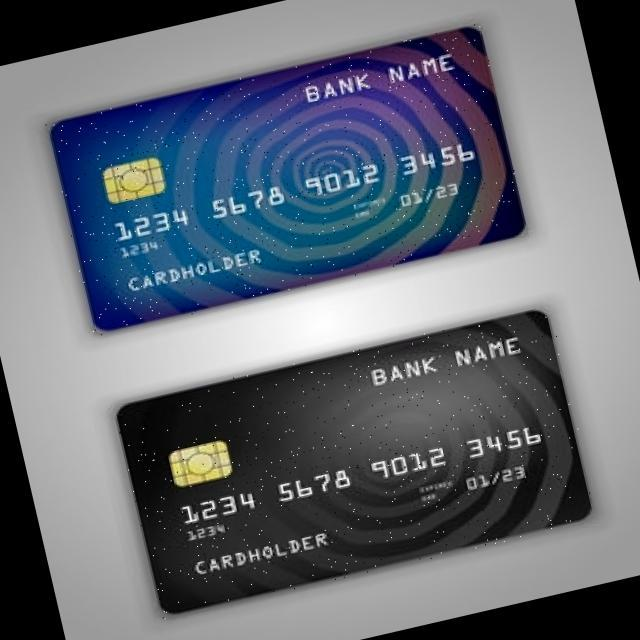payment_card: (48, 23, 526, 333), (114, 308, 592, 614)
